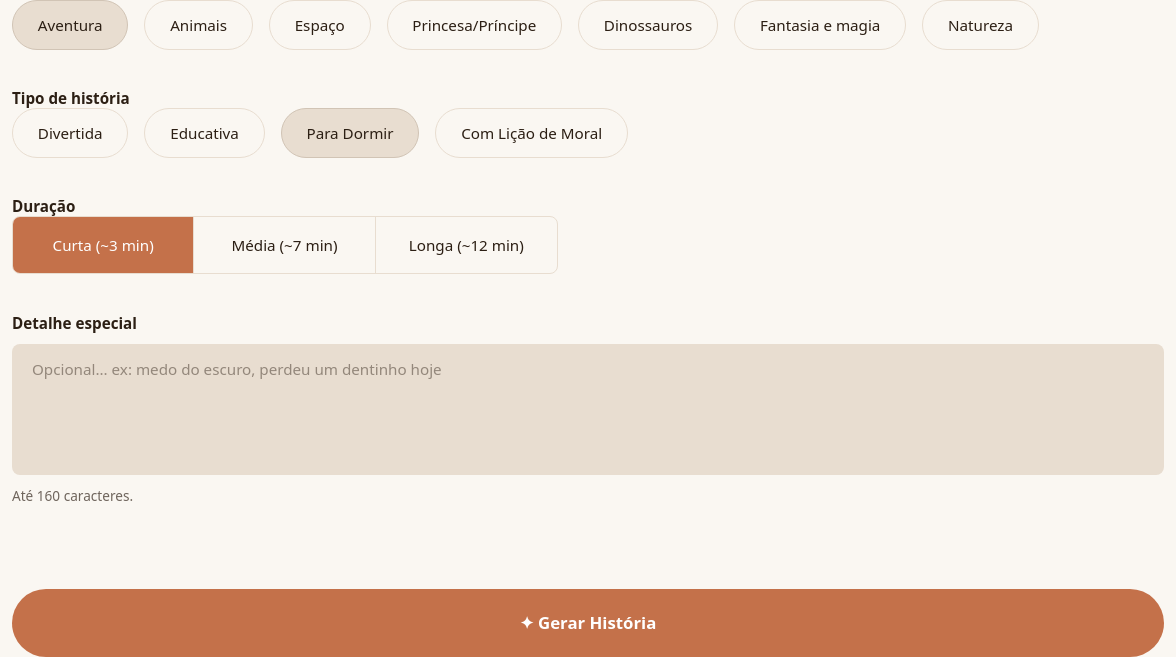
Test: CreateTab › blocks submit when name is blank
This screenshot has width=1176, height=657.
(page scrolled)
Click the button "✦ Gerar História" at (588, 622), box [12, 588, 1164, 656]
(page scrolled)
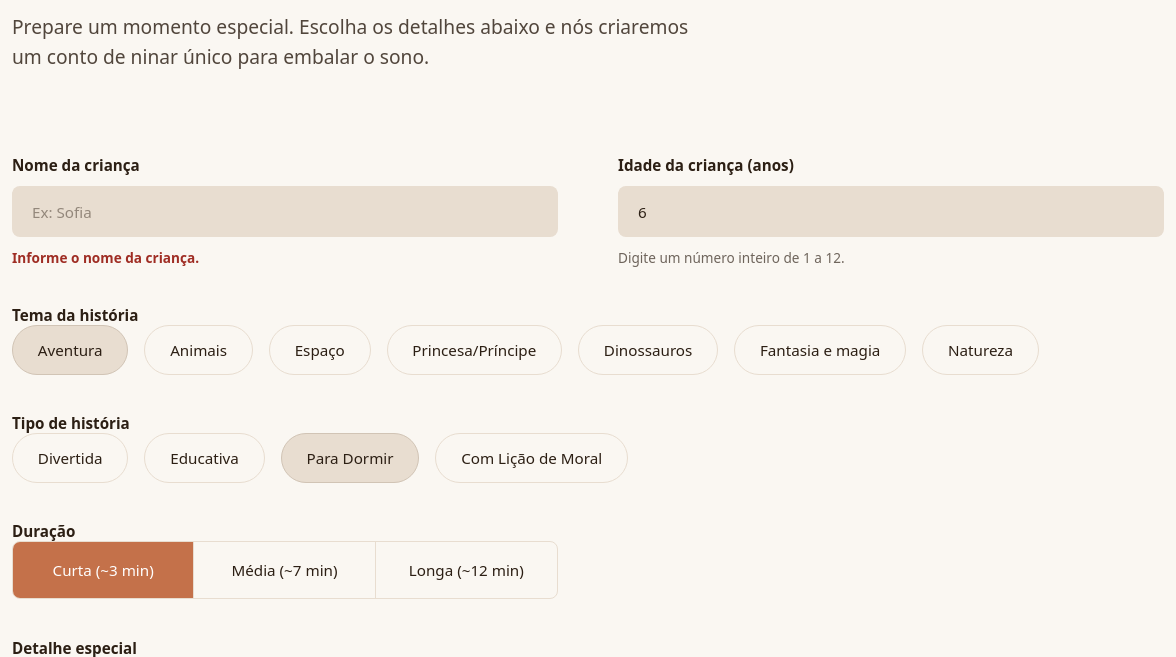
Check: the text "Informe o nome da criança." is shown, box [12, 248, 199, 267]
